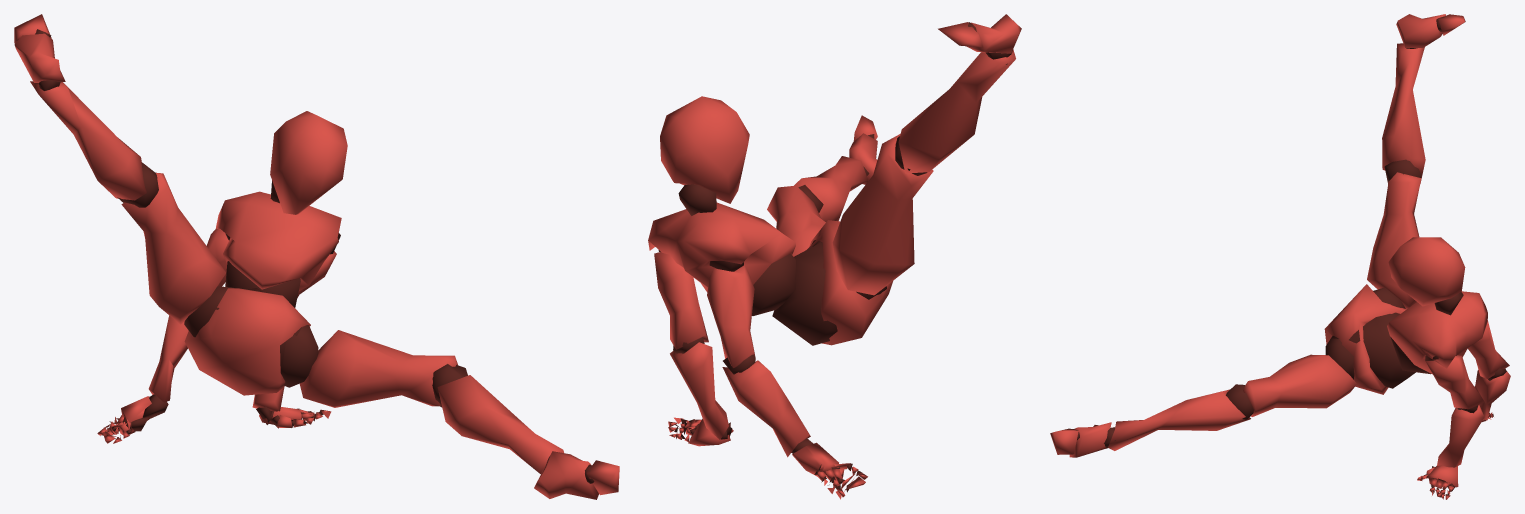
3 renders of one model, left to right at view 1: azimuth 30°, elevation 25°; view 2: azimuth 150°, elevation 25°; view 3: azimuth 270°, elevation 25°, orthographic. The views are drawn at different scales.
Parts seen in each view (by area): view 1: Beta_Surface; view 2: Beta_Surface; view 3: Beta_Surface.
Boxes of the visible parts, x1=… form: Beta_Surface: x1=14, y1=14, x2=619, y2=499; Beta_Surface: x1=648, y1=14, x2=1021, y2=499; Beta_Surface: x1=1050, y1=14, x2=1510, y2=499.
Size of the model in its own units: 11.65 by 13.89 by 15.51.
